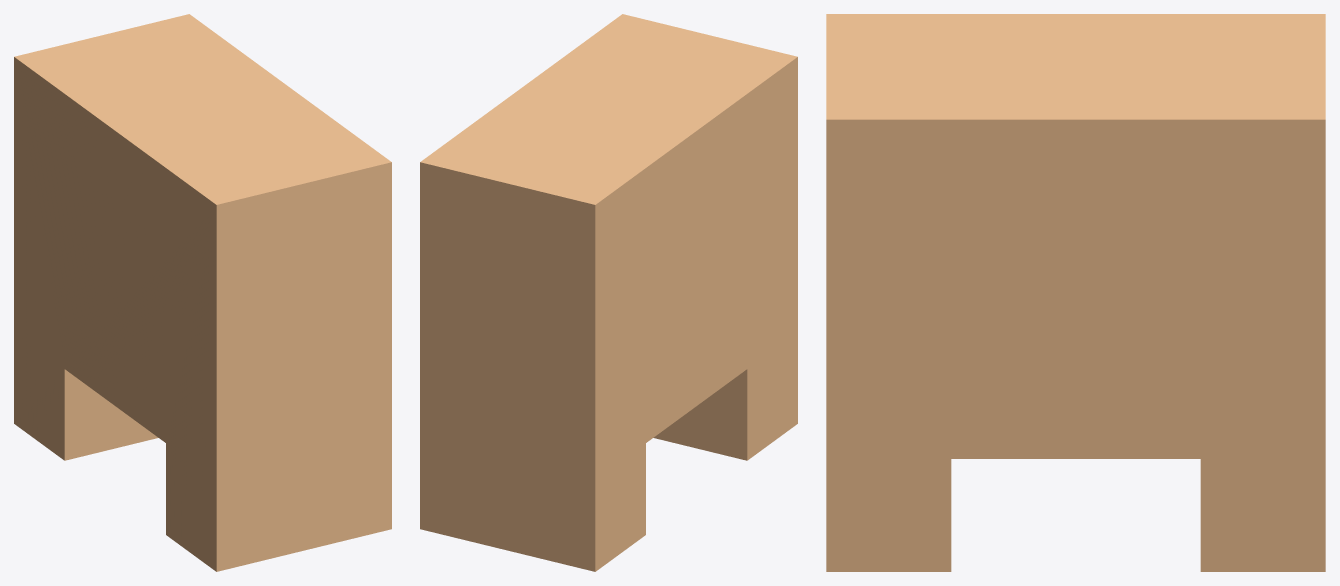
The model's file is body8.obj.
The picture shows the model from 3 angles, left to right: view 1: azimuth 30°, elevation 25°; view 2: azimuth 150°, elevation 25°; view 3: azimuth 270°, elevation 25°; orthographic projection. The views are drawn at different scales.
Size of the model in its own units: 0.2 by 0.4 by 0.4.
Materials: 1 (1 with a texture image).
